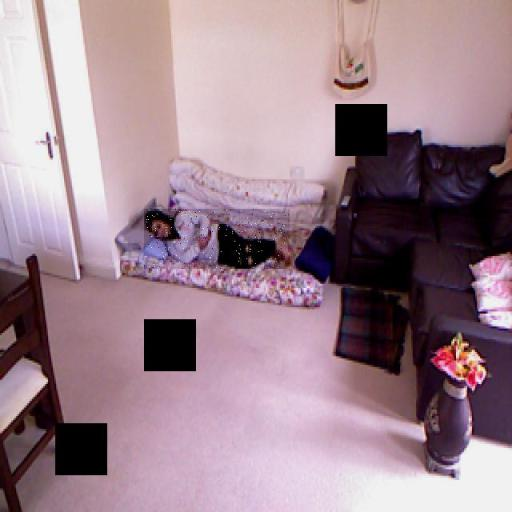Fall: (144, 209, 290, 269)
